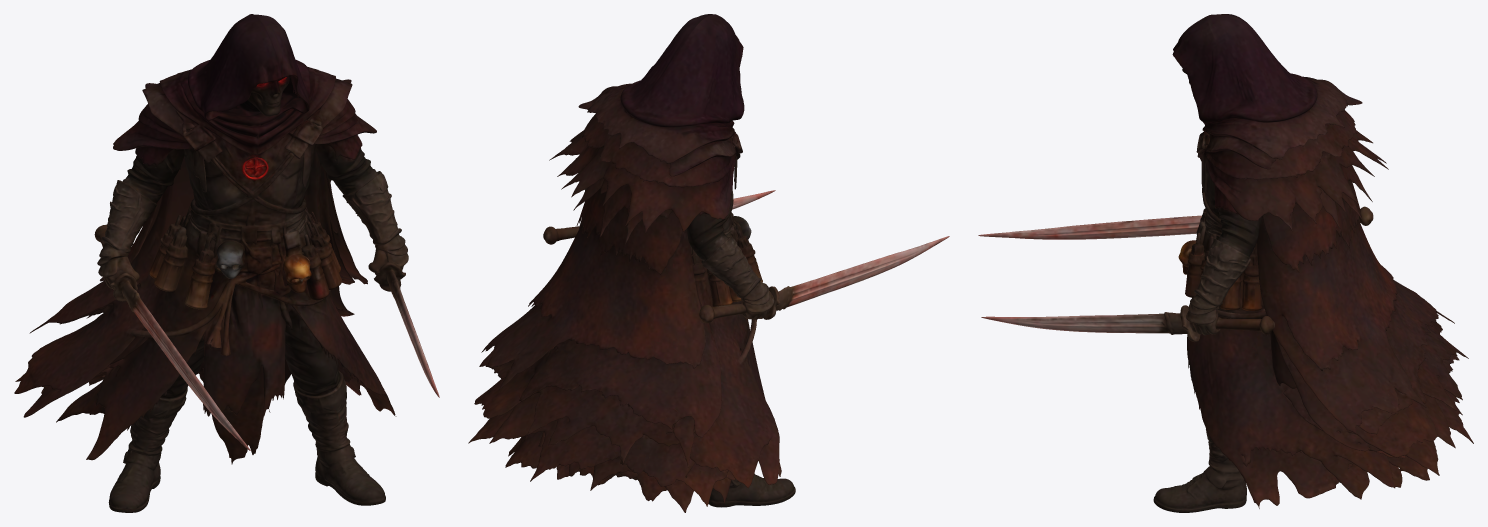
Rendered from enemy_cultist_assassin_01.glb.
3 renders of one model, left to right at view 1: azimuth 30°, elevation 25°; view 2: azimuth 150°, elevation 25°; view 3: azimuth 270°, elevation 25°, orthographic. The views are drawn at different scales.
Parts seen in each view (by area): view 1: material; view 2: material; view 3: material.
Boxes of the visible parts, <box> form: material: <box>14,14,439,512</box>; material: <box>468,14,949,512</box>; material: <box>978,14,1473,512</box>.
Bounding box in the file's own units: 0.6647 × 0.9275 × 0.9175.
1 material, 1 textured.
